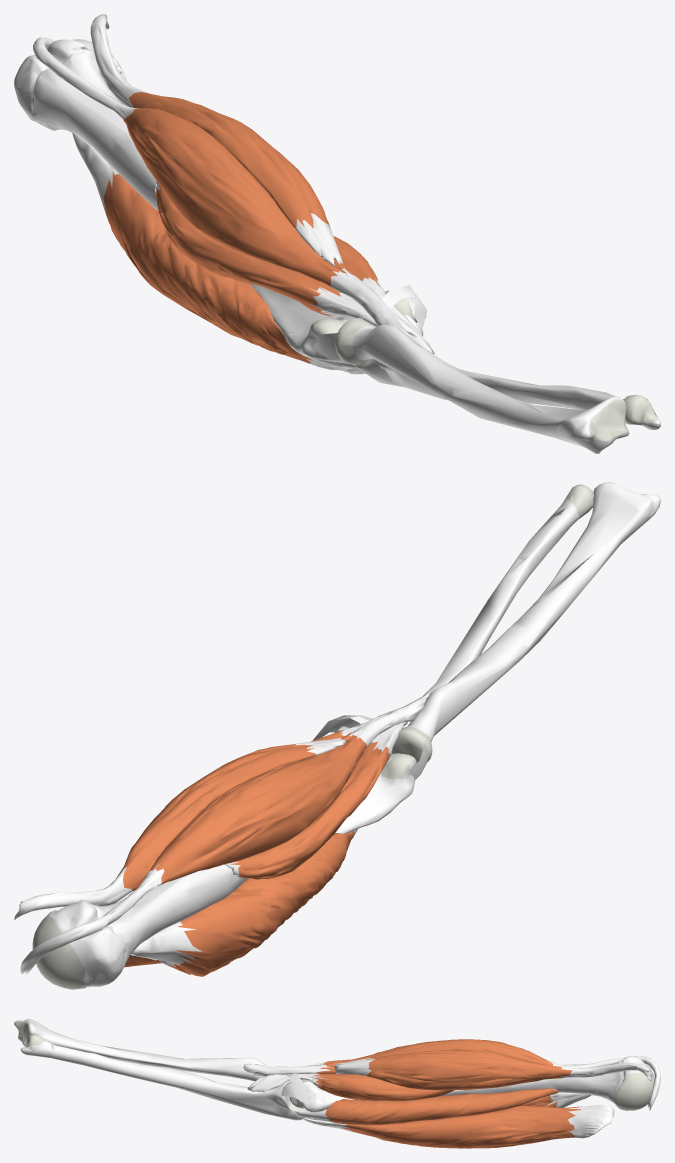
The model's file is arm_full.glb.
The picture shows the model from 3 angles, top to bottom: view 1: azimuth 30°, elevation 25°; view 2: azimuth 150°, elevation 25°; view 3: azimuth 270°, elevation 25°; orthographic projection. The views are drawn at different scales.
Visible parts, largest first — view 1: Long head of biceps brachii, Humerus, Lateral head of triceps brachii, Radius, Short head of biceps brachii, Brachialis muscle, Ulna, Ulnar collateral ligament; view 2: Long head of biceps brachii, Humerus, Radius, Lateral head of triceps brachii, Short head of biceps brachii, Brachialis muscle, Ulna; view 3: Long head of triceps brachii, Short head of biceps brachii, Ulna, Medial head of triceps brachii, Humerus, Radius, Long head of biceps brachii, Brachialis muscle, Lateral head of triceps brachii, Ulnar collateral ligament.
Part boxes in pixels (x1,y1,x2,y2): Long head of biceps brachii: (33,37,409,336); Humerus: (14,39,426,363); Lateral head of triceps brachii: (72,133,360,370); Radius: (335,318,629,453); Short head of biceps brachii: (90,14,343,266); Brachialis muscle: (155,180,434,354); Ulna: (354,314,660,429); Ulnar collateral ligament: (382,285,427,328); Long head of biceps brachii: (20,692,431,975); Humerus: (32,726,416,989); Radius: (391,482,660,763); Lateral head of triceps brachii: (131,829,357,976); Short head of biceps brachii: (14,738,347,919); Brachialis muscle: (224,721,407,879); Ulna: (403,484,593,728); Long head of triceps brachii: (301,1105,614,1148); Short head of biceps brachii: (333,1049,652,1090); Ulna: (20,1034,306,1120); Medial head of triceps brachii: (293,1088,558,1125); Humerus: (289,1056,654,1112); Radius: (14,1018,270,1081); Long head of biceps brachii: (243,1039,660,1110); Brachialis muscle: (247,1059,454,1100); Lateral head of triceps brachii: (520,1092,591,1107); Ulnar collateral ligament: (281,1073,309,1104).
Size of the model in its own units: 1.04 by 1.42 by 7.15.
